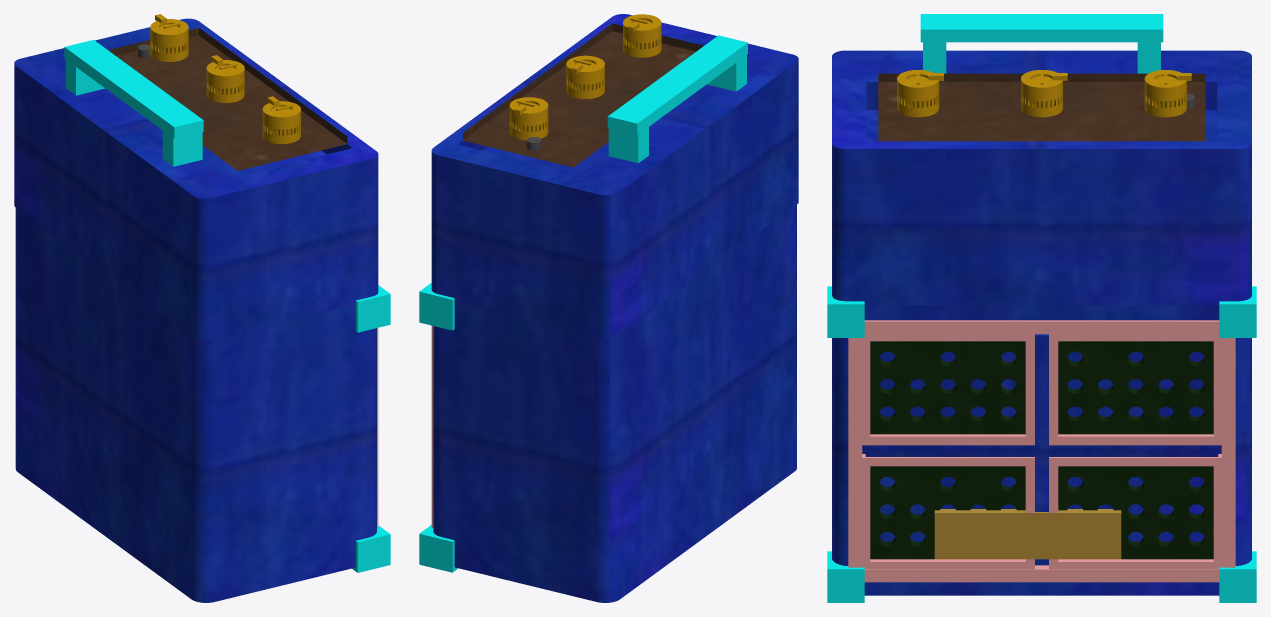
The model's file is Music_Amplifier__0010.glb.
3 renders of one model, left to right at view 1: azimuth 30°, elevation 25°; view 2: azimuth 150°, elevation 25°; view 3: azimuth 270°, elevation 25°, orthographic. The views are drawn at different scales.
Visible parts, largest first — view 1: speaker_cabinet::cabinet_shell, head_box::head_shell, head_box::gold_panel, head_box::handle_strap, knob_2::knob_2, knob_0::knob_0, knob_1::knob_1, speaker_cabinet::corner_cap_0_0, speaker_cabinet::corner_cap_0_1, head_box::handle_leg_0, head_box::handle_leg_1; view 2: speaker_cabinet::cabinet_shell, head_box::head_shell, head_box::gold_panel, head_box::handle_strap, knob_0::knob_0, knob_1::knob_1, knob_2::knob_2, speaker_cabinet::corner_cap_1_0, speaker_cabinet::corner_cap_1_1, head_box::handle_leg_1, head_box::handle_leg_0, speaker_cabinet::piping_v_0; view 3: head_box::head_shell, speaker_cabinet::cabinet_shell, head_box::gold_panel, speaker_cabinet::grille_cell_2, speaker_cabinet::grille_cell_3, speaker_cabinet::grille_cell_1, speaker_cabinet::marshall_logo, speaker_cabinet::grille_cell_0, head_box::handle_strap, speaker_cabinet::piping_h_0, speaker_cabinet::piping_h_1, speaker_cabinet::grille_rib_h (+28 smaller).
Part boxes in pixels (x1,y1,x2,y2): speaker_cabinet::cabinet_shell: (15,208,376,602); head_box::head_shell: (14,18,378,340); head_box::gold_panel: (108,28,347,170); head_box::handle_strap: (64,40,203,138); knob_2::knob_2: (150,14,188,61); knob_0::knob_0: (262,96,300,144); knob_1::knob_1: (206,55,244,102); speaker_cabinet::corner_cap_0_0: (352,525,390,572); speaker_cabinet::corner_cap_0_1: (355,285,390,332); head_box::handle_leg_0: (162,125,202,166); head_box::handle_leg_1: (65,54,104,95); speaker_cabinet::cabinet_shell: (433,205,796,602); head_box::head_shell: (431,14,798,338); head_box::gold_panel: (463,23,703,167); head_box::handle_strap: (607,35,747,134); knob_0::knob_0: (623,14,661,57); knob_1::knob_1: (566,55,604,98); knob_2::knob_2: (509,97,548,140); speaker_cabinet::corner_cap_1_0: (419,525,457,572); speaker_cabinet::corner_cap_1_1: (419,283,454,330); head_box::handle_leg_1: (608,121,648,163); head_box::handle_leg_0: (707,49,746,91); speaker_cabinet::piping_v_0: (431,325,433,527); head_box::head_shell: (832,50,1251,305); speaker_cabinet::cabinet_shell: (832,305,1251,595); head_box::gold_panel: (878,73,1205,141); speaker_cabinet::grille_cell_2: (870,341,1025,434); speaker_cabinet::grille_cell_3: (1058,341,1213,434); speaker_cabinet::grille_cell_1: (1058,466,1213,559); speaker_cabinet::marshall_logo: (934,509,1121,559); speaker_cabinet::grille_cell_0: (870,466,1025,559); head_box::handle_strap: (920,14,1163,42); speaker_cabinet::piping_h_0: (864,320,1219,334); speaker_cabinet::piping_h_1: (864,565,1219,582); speaker_cabinet::grille_rib_h: (865,440,1218,461).
Size of the model in its own units: 0.1172 by 0.2667 by 0.2094.
Materials: 8 (4 with a texture image).
